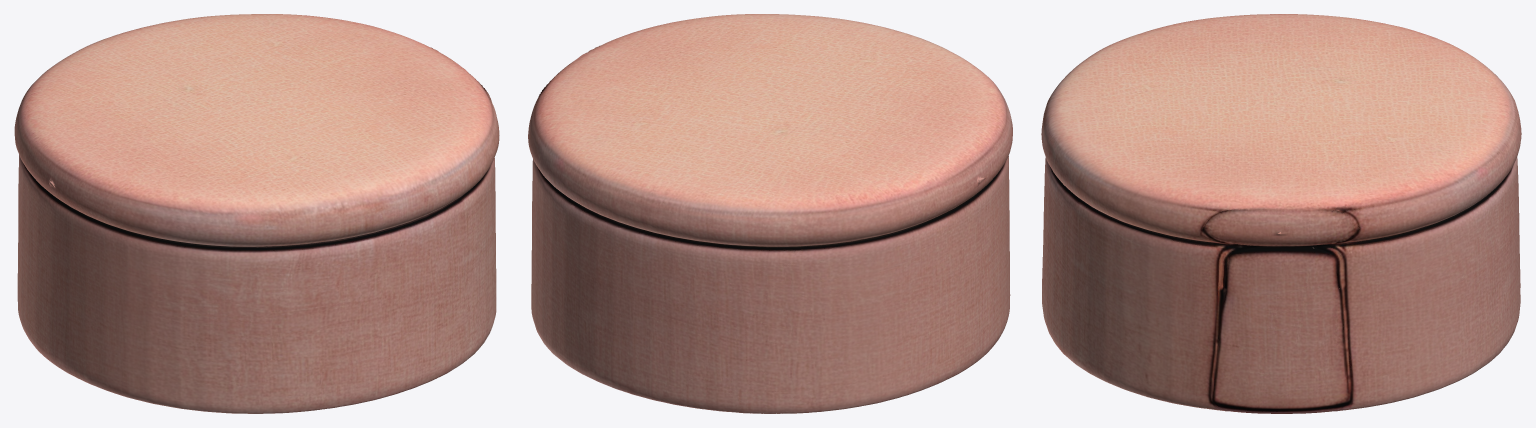
Rendered from product-traditional-colten-round-storage-coffee-table-ottoman-03.glb.
The picture shows the model from 3 angles, left to right: view 1: azimuth 30°, elevation 25°; view 2: azimuth 150°, elevation 25°; view 3: azimuth 270°, elevation 25°; orthographic projection.
Visible parts, largest first — view 1: geometry_0; view 2: geometry_0; view 3: geometry_0.
Boxes of the visible parts, box(x1,y1,x2,y2) form: geometry_0: box(14, 14, 499, 413); geometry_0: box(528, 14, 1012, 413); geometry_0: box(1041, 14, 1521, 413).
Size of the model in its own units: 1.99 by 0.9795 by 1.98.
1 material, 1 textured.
